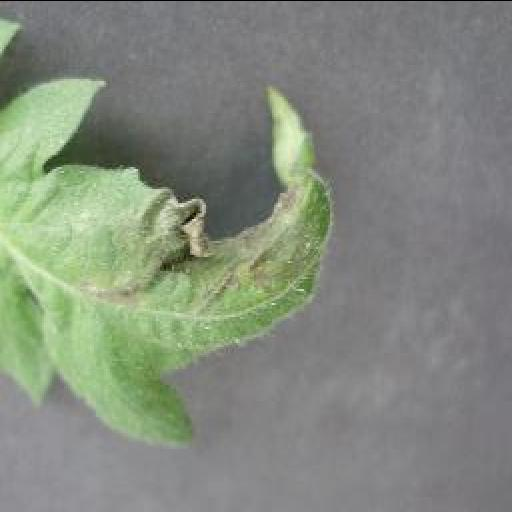disease_tomato: (0, 74, 340, 450)
